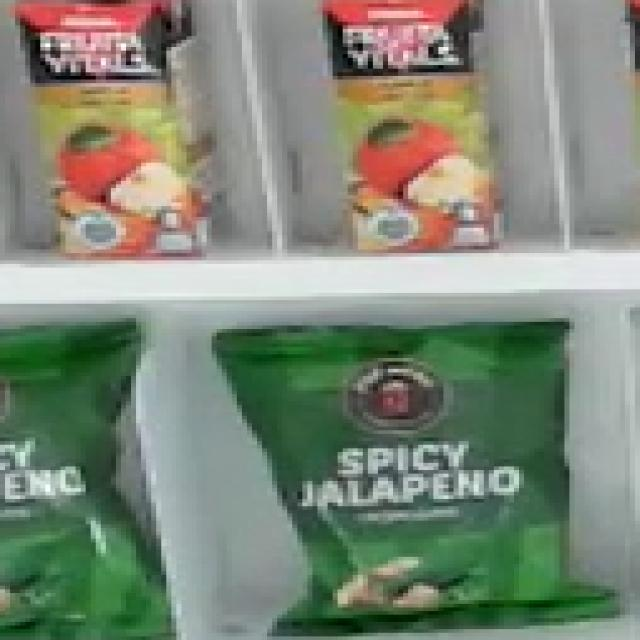Plastic: (234, 319, 592, 633), (0, 323, 176, 637), (21, 7, 242, 255), (320, 7, 522, 246)
